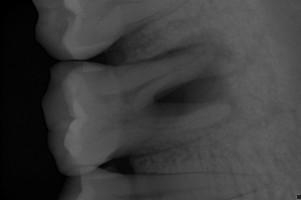Dental Caries: (144, 28, 243, 122)
